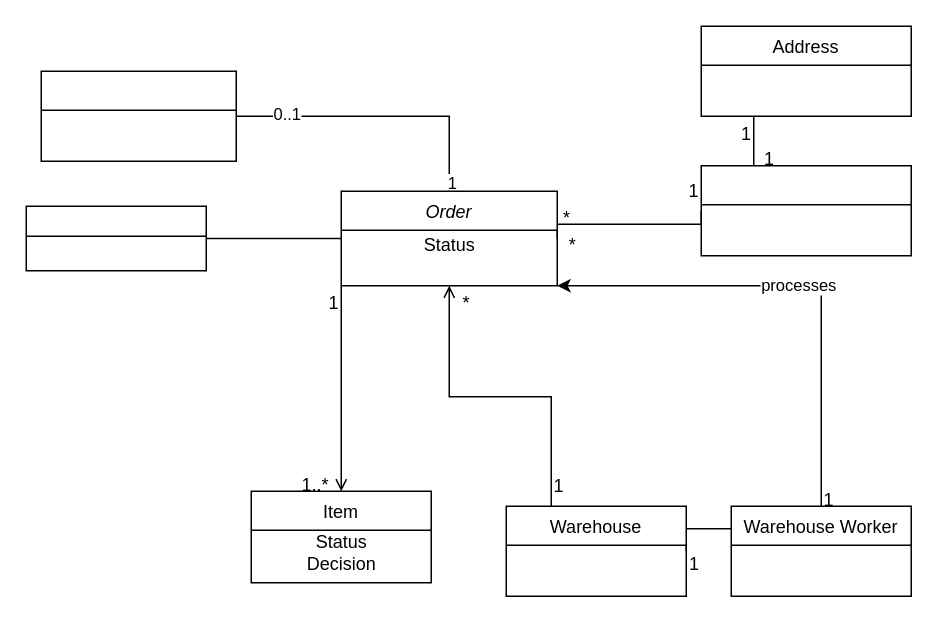
The diagram is 938 pixels wide and 623 high, and some of its shapes have lost their labels. The centre of each missing label's shape, as x and y in pixels:
"Clearing Shipment" belongs at pixel 138 115.
"Customer" belongs at pixel 805 210.
"Shipment" belongs at pixel 115 238.
